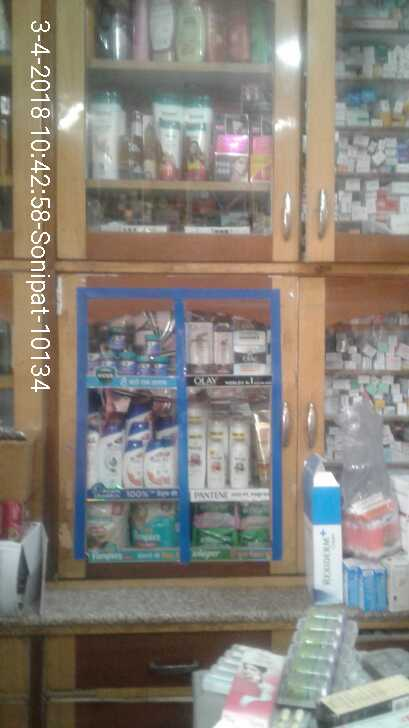vicks: (100, 320, 170, 377)
